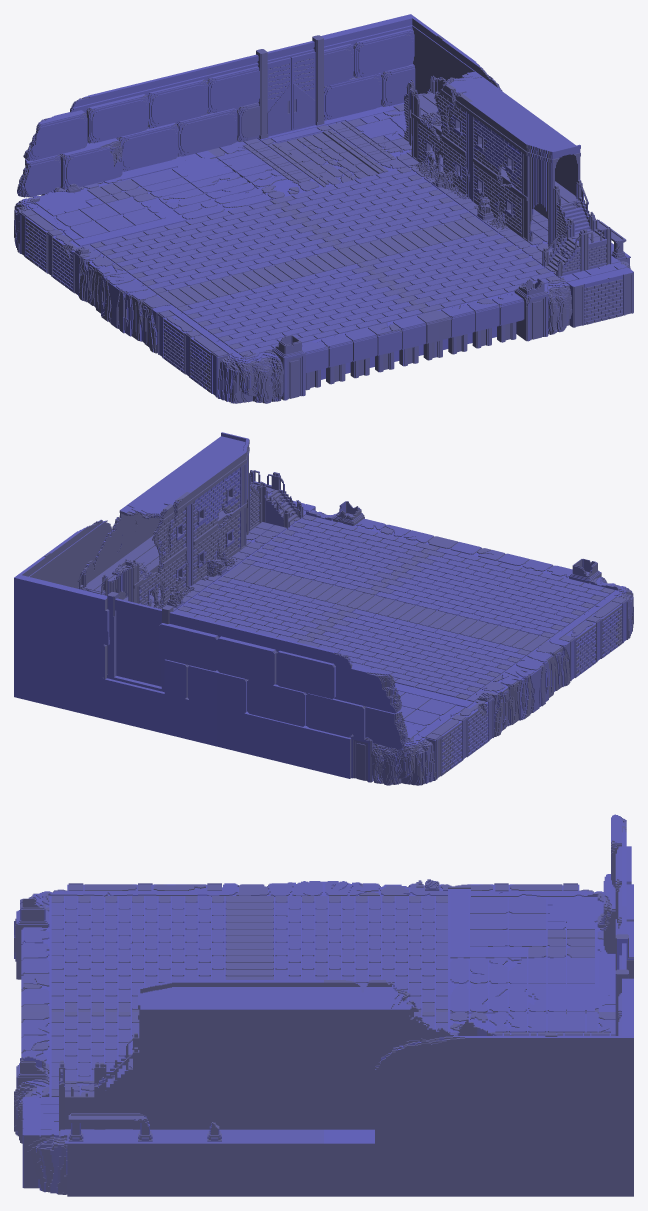
Rendered from Map.fbx.
3 views of the same model, one above another, from view 1: azimuth 30°, elevation 25°; view 2: azimuth 150°, elevation 25°; view 3: azimuth 270°, elevation 25° (orthographic). The views are drawn at different scales.
Parts seen in each view (by area): view 1: Untitled.001, Untitled, Untitled.002, Untitled.003; view 2: Untitled.001, Untitled, Untitled.002, Untitled.003; view 3: Untitled.002, Untitled.001, Untitled, Untitled.003.
Boxes of the visible parts, x1,y1,x2,y2 form: Untitled.001: (205,14,508,234); Untitled: (14,67,321,325); Untitled.002: (322,96,633,357); Untitled.003: (114,234,439,403); Untitled.001: (14,487,332,746); Untitled: (217,621,536,785); Untitled.002: (152,432,445,621); Untitled.003: (334,538,633,710); Untitled.002: (14,980,323,1196); Untitled.001: (324,906,633,1196); Untitled: (324,814,633,1013); Untitled.003: (14,881,323,1014).
Size of the model in its own units: 51.2 by 16.1 by 51.
